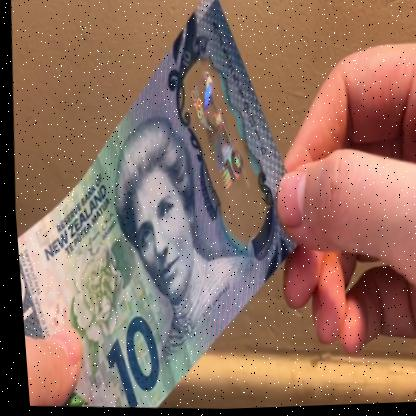10B: (180, 67, 252, 192)
